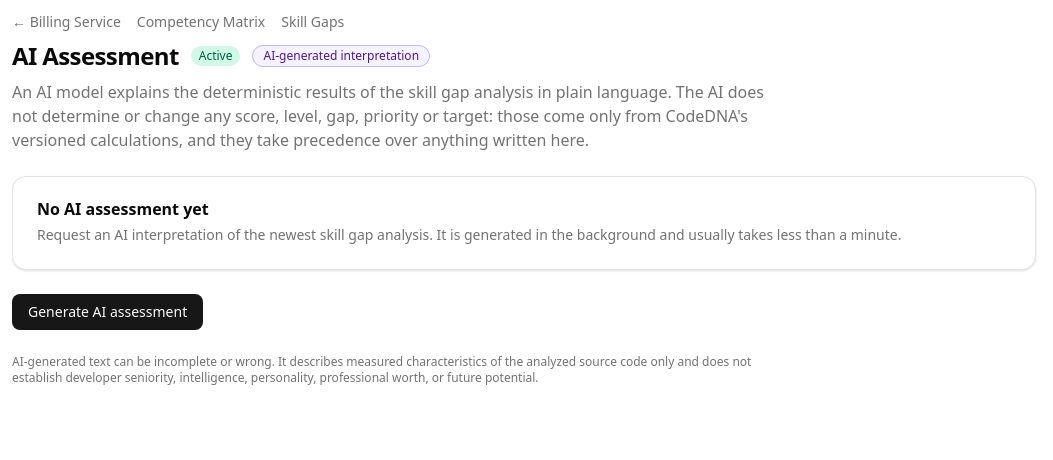
Test case: AssessmentView › shows that AI is unavailable when the server has it disabled
The image size is (1053, 460).
Click the button "Generate AI assessment". click: click(108, 312)
box: 12,294 -> 203,330
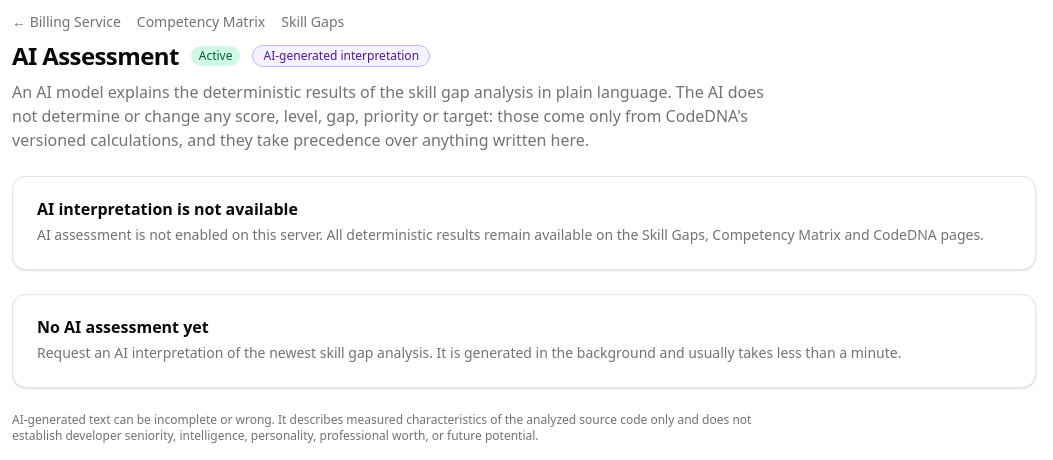
Now the element with test id "assessment-unavailable" shows "AI interpretation is not available", box 37,198 -> 298,220
Now the button "Generate AI assessment" is gone
